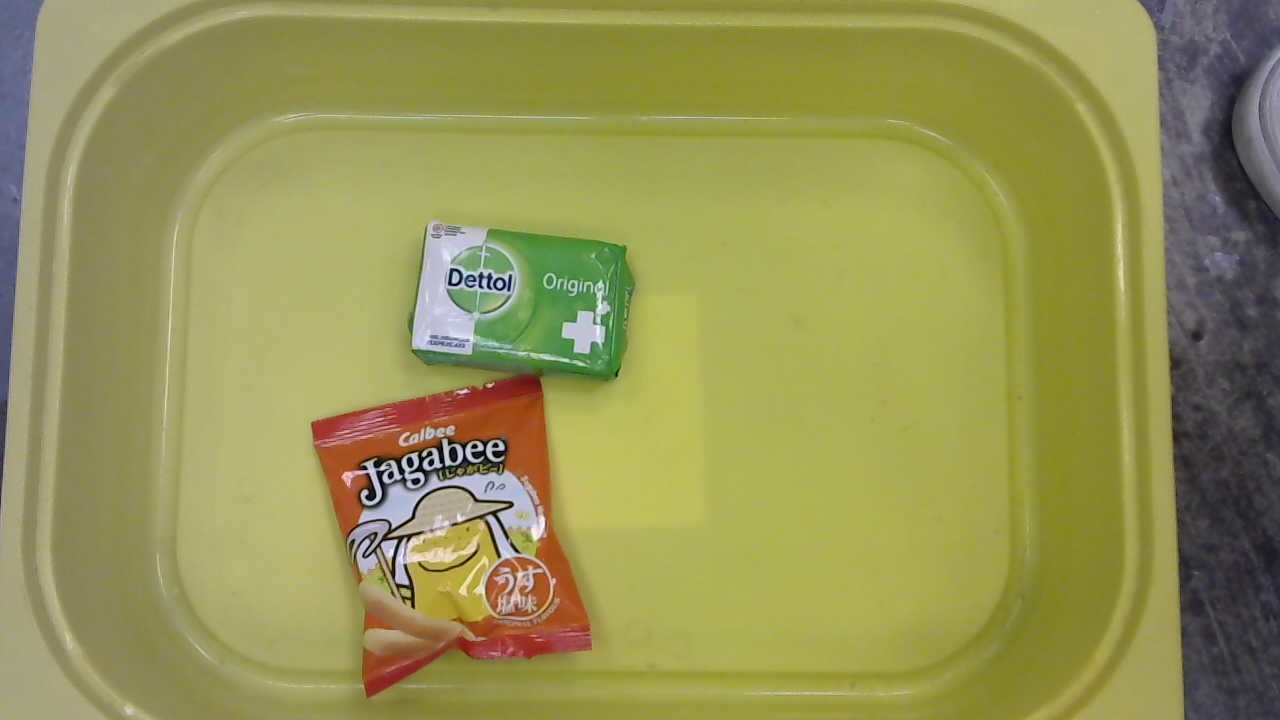Dettol: (401, 219, 637, 384)
JagabeeFarmer: (300, 377, 598, 699)
